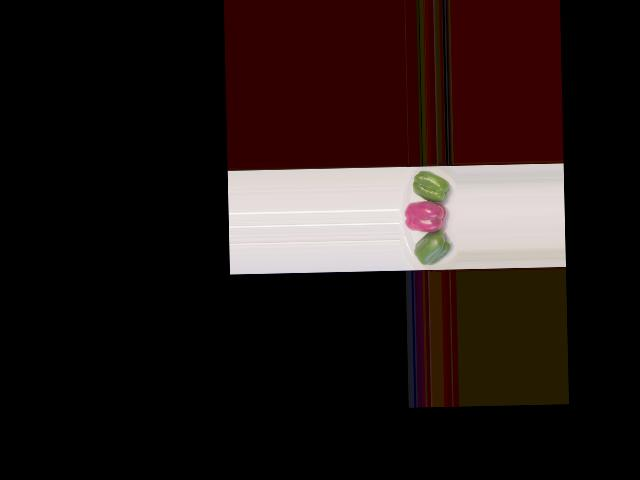bell_pepper: (409, 229, 454, 267)
